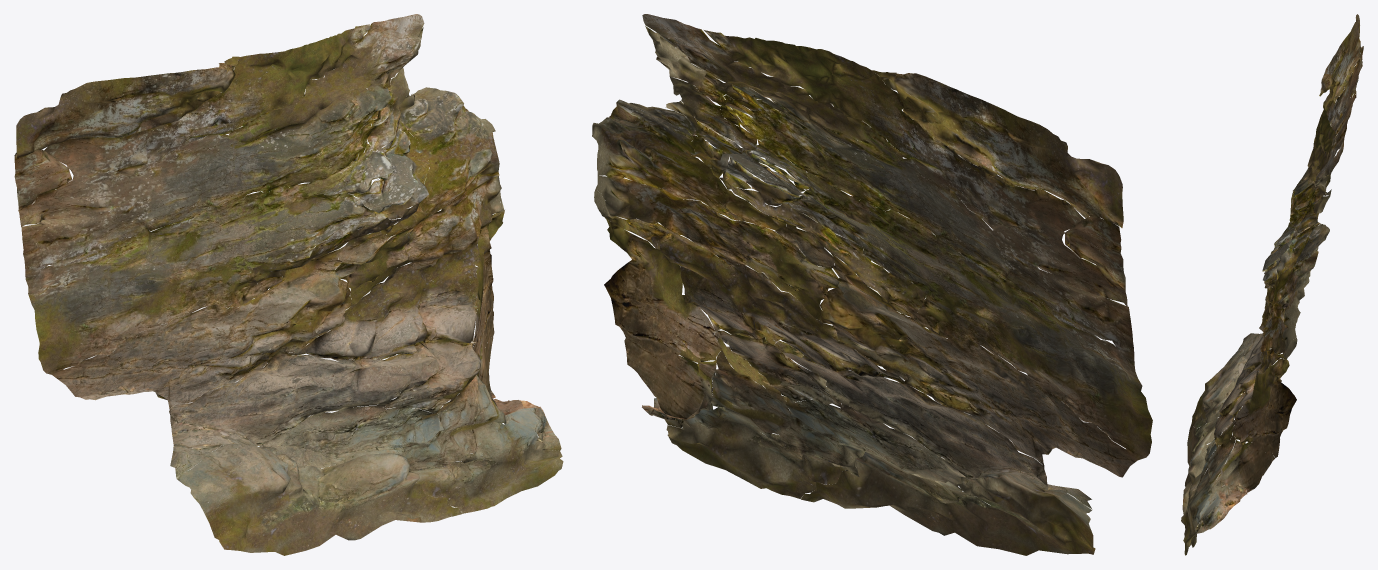
Rendered from ph-cliff_face_b.glb.
The picture shows the model from 3 angles, left to right: view 1: azimuth 30°, elevation 25°; view 2: azimuth 150°, elevation 25°; view 3: azimuth 270°, elevation 25°; orthographic projection. The views are drawn at different scales.
Visible parts, largest first — view 1: cliff_face_b; view 2: cliff_face_b; view 3: cliff_face_b.
Part boxes in pixels (x1,y1,x2,y2): cliff_face_b: (14,14,563,555); cliff_face_b: (592,14,1152,555); cliff_face_b: (1181,14,1363,555).
Size of the model in its own units: 2.71 by 2.48 by 1.07.
1 material, 1 textured.
